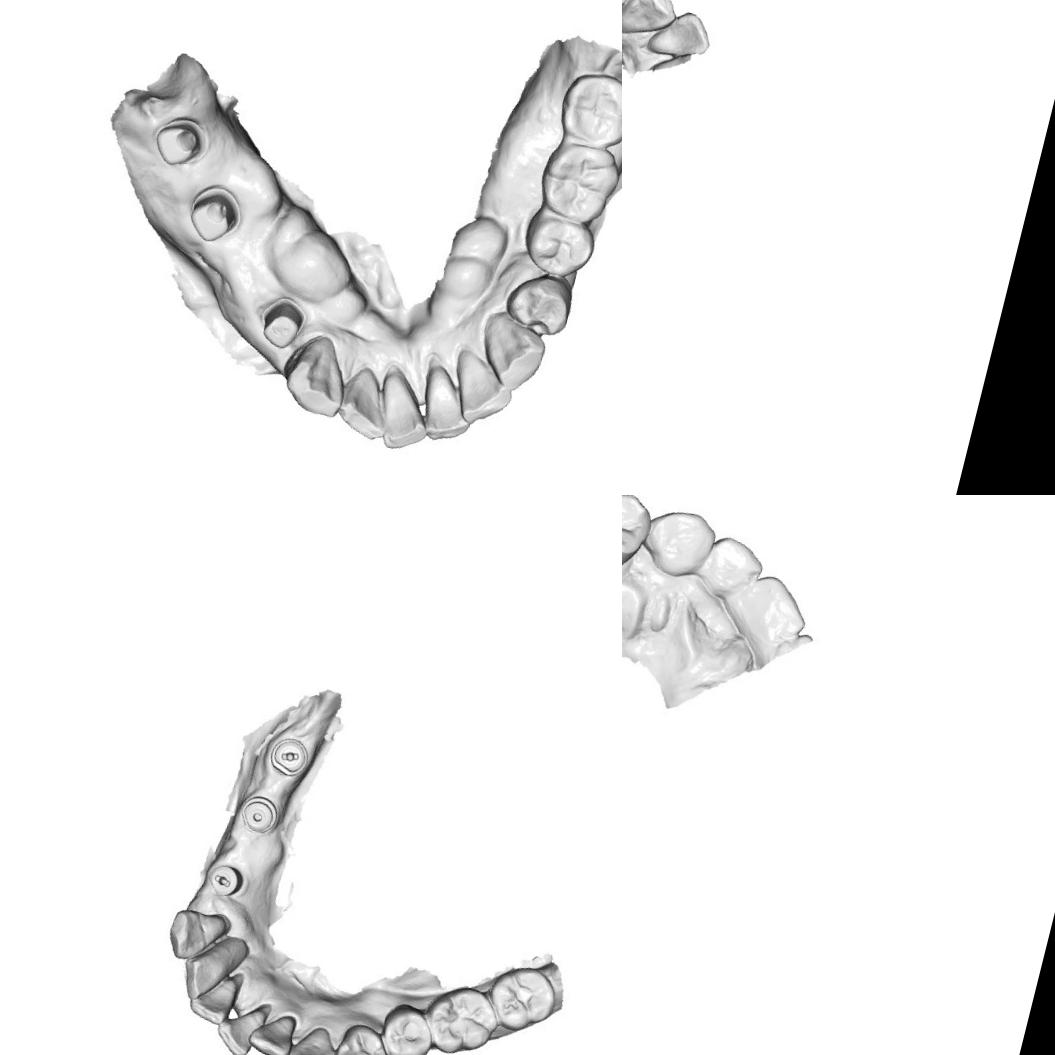abutment: (140, 102, 217, 184), (246, 290, 311, 362), (184, 181, 244, 250)
canine: (272, 322, 367, 424), (638, 500, 722, 585), (472, 308, 554, 386), (162, 903, 233, 968), (622, 0, 683, 46), (282, 1022, 345, 1055)
implant: (240, 794, 278, 835)
implant_minus: (266, 733, 312, 783), (204, 862, 245, 899)
incisor: (722, 564, 816, 652), (331, 359, 406, 444), (444, 347, 518, 430), (374, 366, 440, 459), (412, 362, 484, 446), (694, 530, 768, 606), (642, 1, 718, 67), (176, 937, 240, 1009), (184, 967, 238, 1026), (209, 999, 262, 1055), (246, 1005, 298, 1055)
molar: (535, 135, 622, 227), (418, 978, 503, 1055), (482, 960, 563, 1039), (555, 65, 622, 155), (516, 208, 596, 282)
premolar: (498, 266, 578, 340), (373, 1002, 438, 1055), (622, 495, 657, 578), (328, 1016, 395, 1055)
